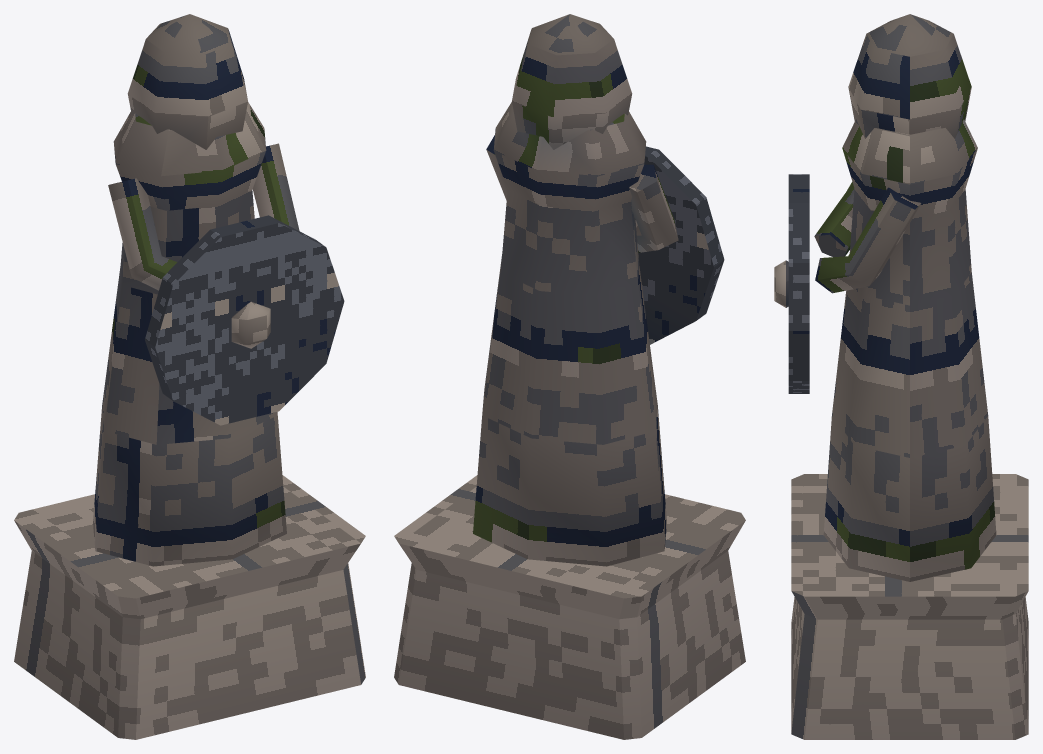
The model's file is dprop.statue__shield.glb.
3 views of the same model, side by side, from view 1: azimuth 30°, elevation 25°; view 2: azimuth 150°, elevation 25°; view 3: azimuth 270°, elevation 25° (orthographic).
Visible parts, largest first — view 1: kit_figure, kit_shield, kit_arms; view 2: kit_figure, kit_shield, kit_arms; view 3: kit_figure, kit_arms, kit_shield.
Boxes of the visible parts, left/top/right/bottom form: kit_figure: left=14, top=14, right=365, bottom=739; kit_shield: left=145, top=215, right=344, bottom=425; kit_arms: left=108, top=143, right=299, bottom=290; kit_figure: left=394, top=14, right=745, bottom=739; kit_shield: left=638, top=146, right=724, bottom=344; kit_arms: left=486, top=135, right=678, bottom=252; kit_figure: left=791, top=14, right=1028, bottom=739; kit_arms: left=814, top=182, right=921, bottom=293; kit_shield: left=774, top=174, right=809, bottom=393.
Size of the model in its own units: 1.1 by 2.78 by 0.965.
4 materials, 4 textured.
